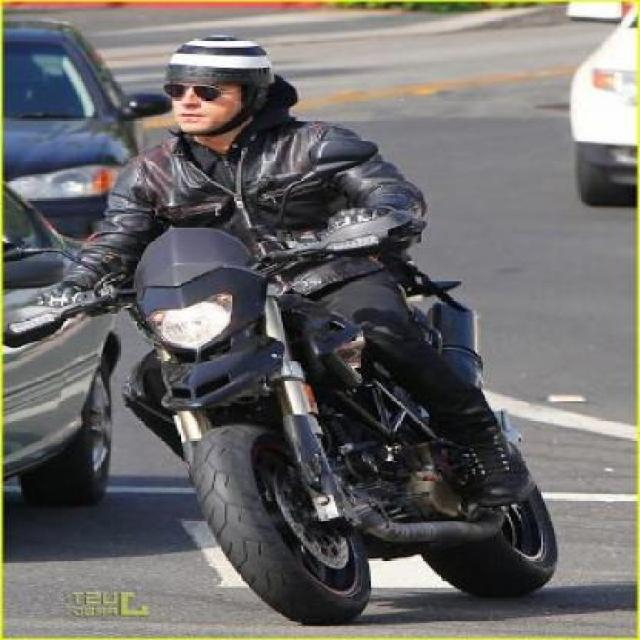helmet: (144, 34, 293, 143)
motorcycle: (52, 27, 593, 625)
